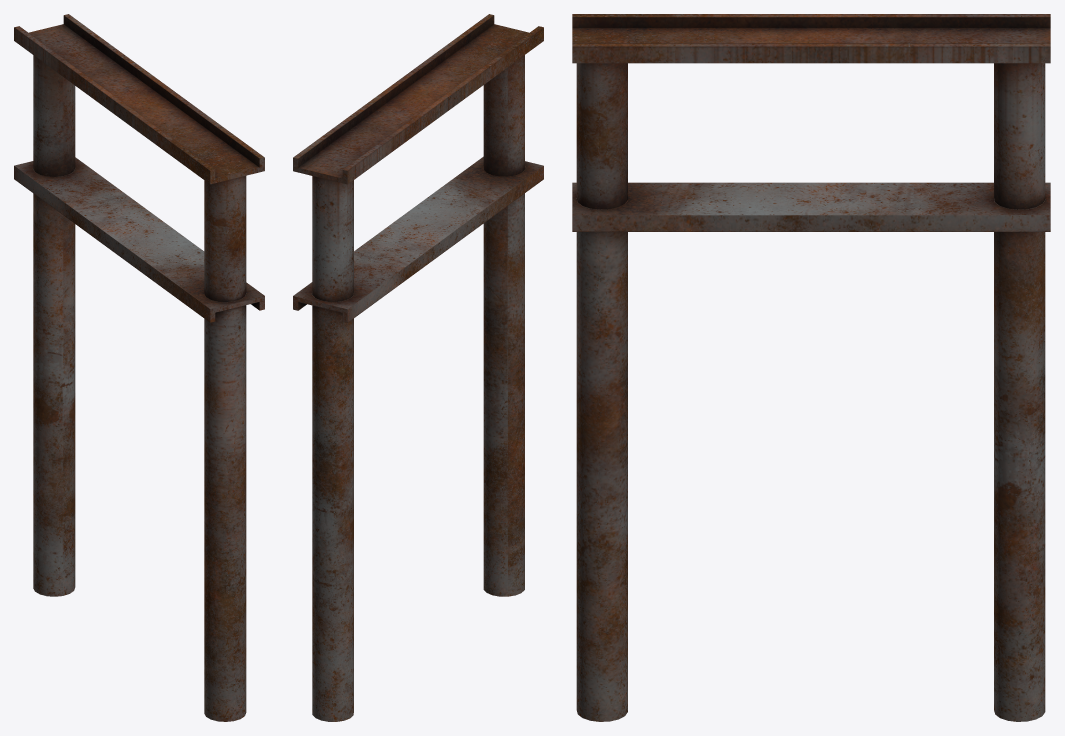
Rendered from SM_PipeBigSupport03.FBX.
3 views of the same model, side by side, from view 1: azimuth 30°, elevation 25°; view 2: azimuth 150°, elevation 25°; view 3: azimuth 270°, elevation 25° (orthographic). The views are drawn at different scales.
Visible parts, largest first — view 1: SM_PipeBigSupport03_LOD0; view 2: SM_PipeBigSupport03_LOD0; view 3: SM_PipeBigSupport03_LOD0.
Boxes of the visible parts, x1=… form: SM_PipeBigSupport03_LOD0: x1=14, y1=14, x2=264, y2=721; SM_PipeBigSupport03_LOD0: x1=293, y1=14, x2=543, y2=721; SM_PipeBigSupport03_LOD0: x1=572, y1=14, x2=1050, y2=721.
Bounding box in the file's own units: 12 × 74.54 × 117.
